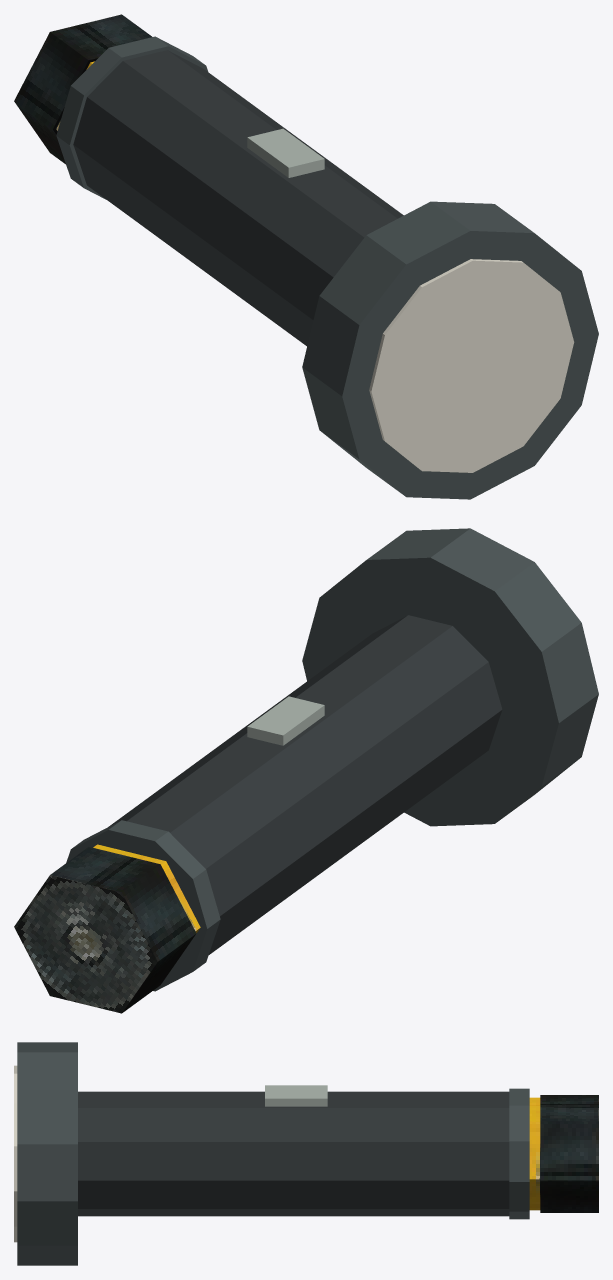
File: blender_flashlight_3.glb
The picture shows the model from 3 angles, top to bottom: view 1: azimuth 30°, elevation 25°; view 2: azimuth 150°, elevation 25°; view 3: azimuth 270°, elevation 25°; orthographic projection. The views are drawn at different scales.
Parts seen in each view (by area): view 1: blender_flashlight_3; view 2: blender_flashlight_3; view 3: blender_flashlight_3.
Part boxes in pixels (x1,y1,x2,y2): blender_flashlight_3: [14, 14, 598, 499]; blender_flashlight_3: [14, 528, 598, 1013]; blender_flashlight_3: [14, 1042, 598, 1265].
Size of the model in its own units: 0.1 by 0.1 by 0.261.
Materials: 1 (1 with a texture image).
